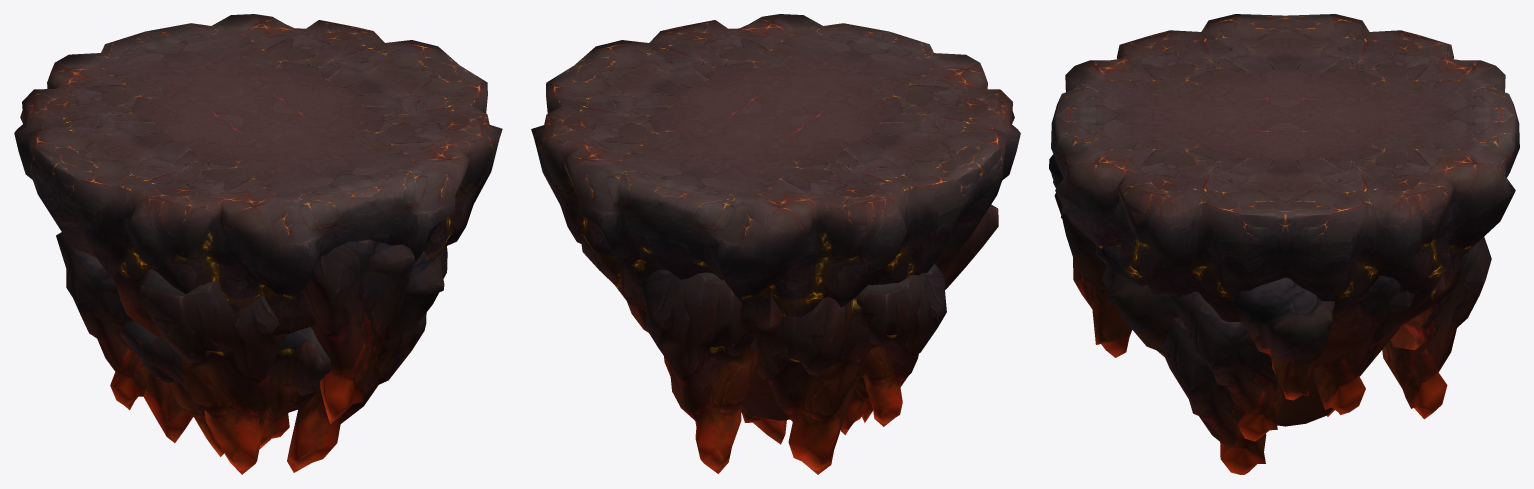
File: Dxlm_dibiao01.FBX
3 views of the same model, side by side, from view 1: azimuth 30°, elevation 25°; view 2: azimuth 150°, elevation 25°; view 3: azimuth 270°, elevation 25° (orthographic).
Parts seen in each view (by area): view 1: Dxlm_dibiao01; view 2: Dxlm_dibiao01; view 3: Dxlm_dibiao01.
Part boxes in pixels (x1,y1,x2,y2): Dxlm_dibiao01: [14, 14, 502, 474]; Dxlm_dibiao01: [531, 14, 1020, 474]; Dxlm_dibiao01: [1049, 14, 1519, 474].
Bounding box in the file's own units: 856 × 838 × 691.
